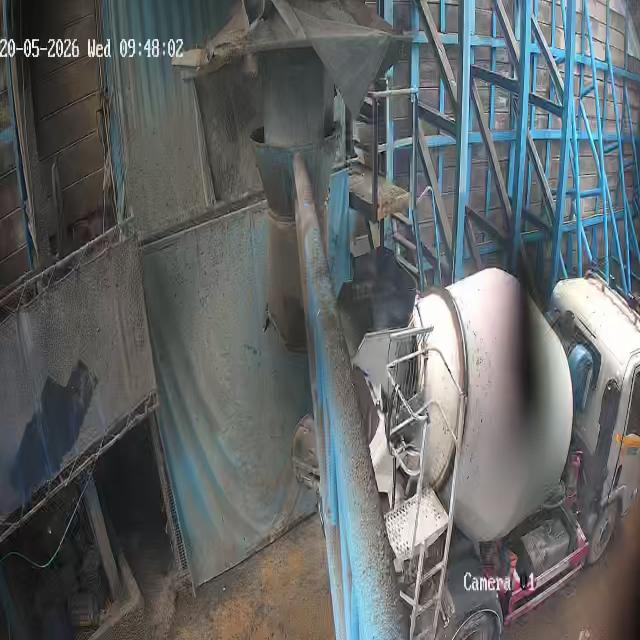cement_mixer_truck: (289, 245, 640, 639)
swing_chute: (248, 129, 339, 356)
